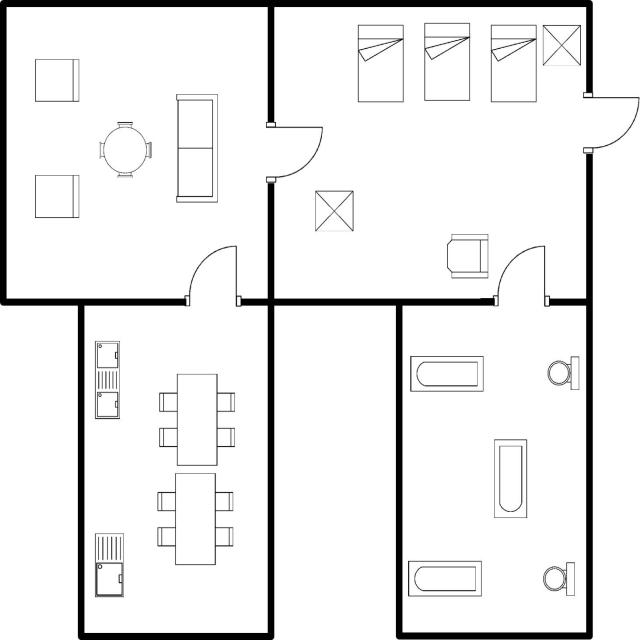armchair: (443, 228, 493, 284)
bed: (420, 18, 474, 106), (486, 20, 540, 108), (354, 19, 405, 105)
coffee_table: (311, 186, 360, 236), (541, 19, 583, 75)
dining_table: (154, 366, 241, 469), (152, 470, 240, 570)
large_sink: (542, 350, 583, 394), (538, 557, 578, 602)
large_sofa: (171, 88, 222, 208)
round_table: (94, 117, 156, 180)
sink: (89, 529, 128, 601)
small_sofa: (29, 168, 84, 221), (29, 54, 82, 107)
tub: (404, 554, 488, 602), (487, 434, 531, 522), (406, 352, 488, 396)
twin_sink: (91, 334, 124, 424)
